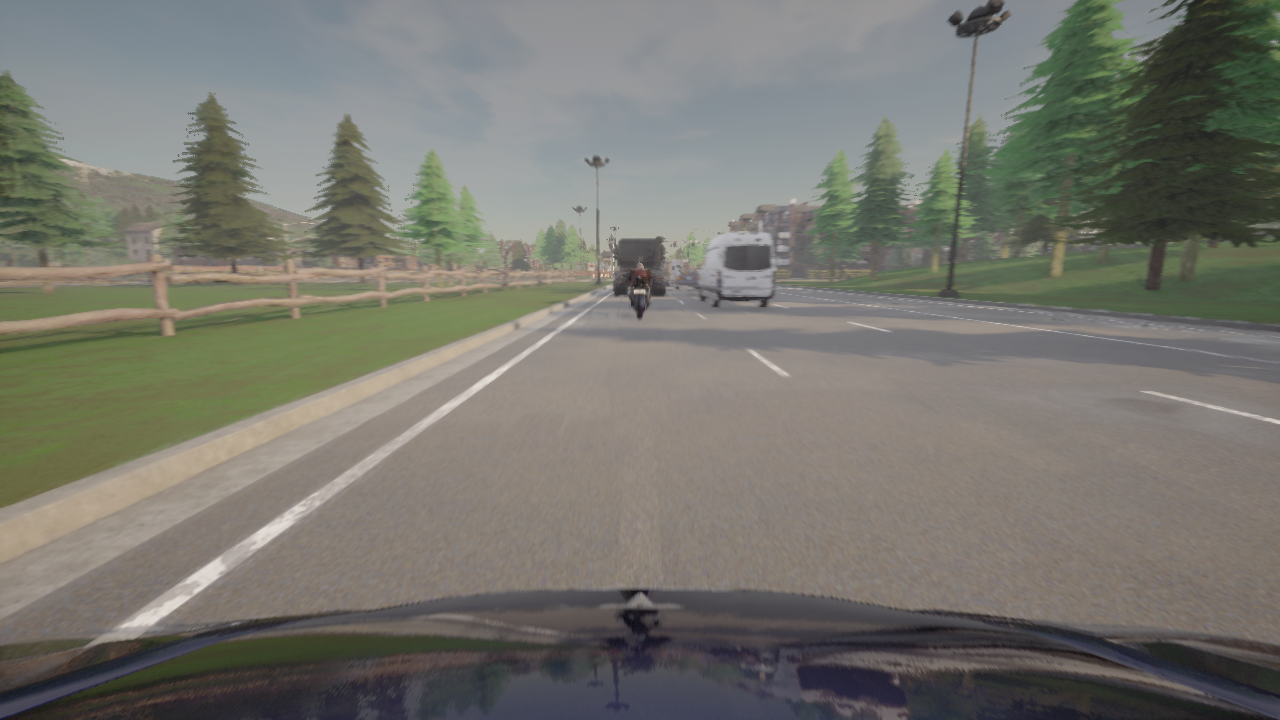cyclist: (0, 588, 1279, 719), (697, 232, 775, 307), (613, 237, 665, 295), (626, 274, 653, 318), (662, 261, 687, 285), (674, 269, 699, 289), (698, 270, 700, 277)
